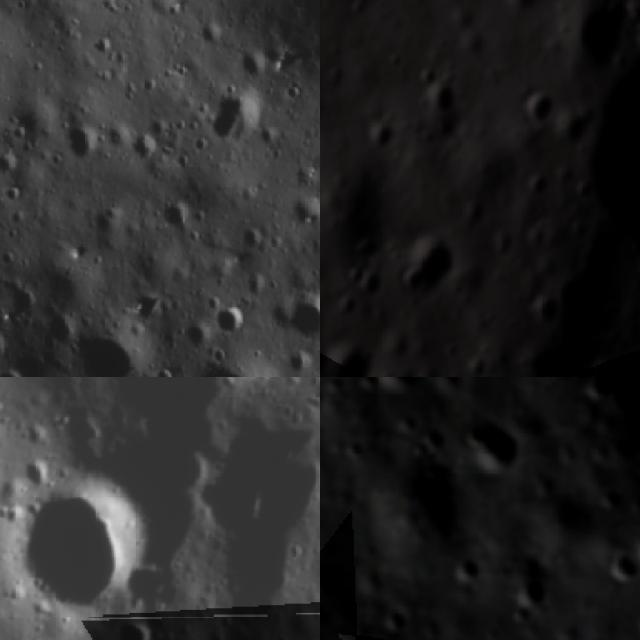crater: (9, 472, 158, 617), (451, 406, 538, 493), (391, 220, 468, 304), (555, 0, 632, 82), (69, 318, 149, 377), (320, 329, 384, 377), (212, 89, 262, 148), (510, 82, 561, 132), (504, 571, 554, 622), (593, 544, 640, 596), (191, 350, 280, 377), (364, 377, 441, 408), (64, 118, 108, 171), (285, 286, 320, 351), (416, 72, 461, 120), (444, 550, 488, 594), (558, 105, 601, 147), (524, 286, 567, 328), (576, 377, 623, 413), (420, 458, 462, 498), (230, 46, 270, 86), (590, 482, 632, 520), (361, 113, 398, 156), (377, 598, 414, 640), (158, 197, 196, 235), (518, 165, 556, 202), (351, 223, 389, 260), (587, 350, 638, 377), (212, 302, 246, 341), (287, 192, 320, 232), (499, 0, 543, 30), (567, 174, 599, 210), (0, 140, 24, 186), (114, 620, 165, 640), (408, 435, 438, 466), (343, 260, 371, 290), (341, 438, 368, 469), (396, 409, 422, 438), (336, 293, 359, 321), (0, 366, 28, 377)
